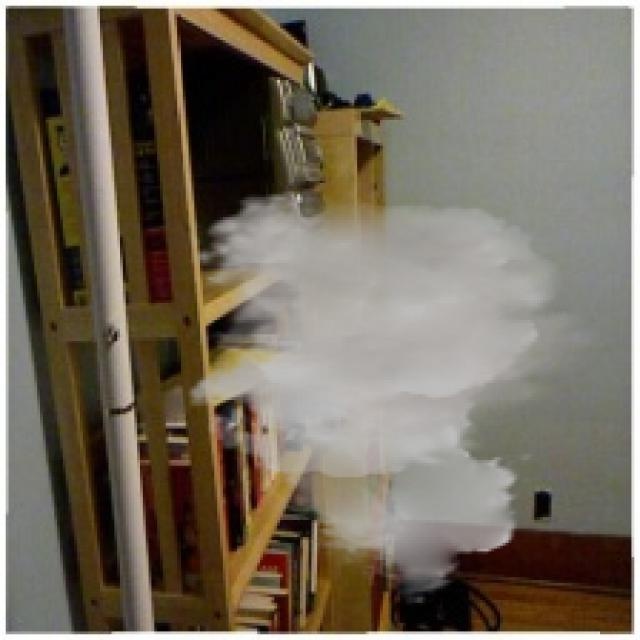smoke: (186, 191, 608, 606)
